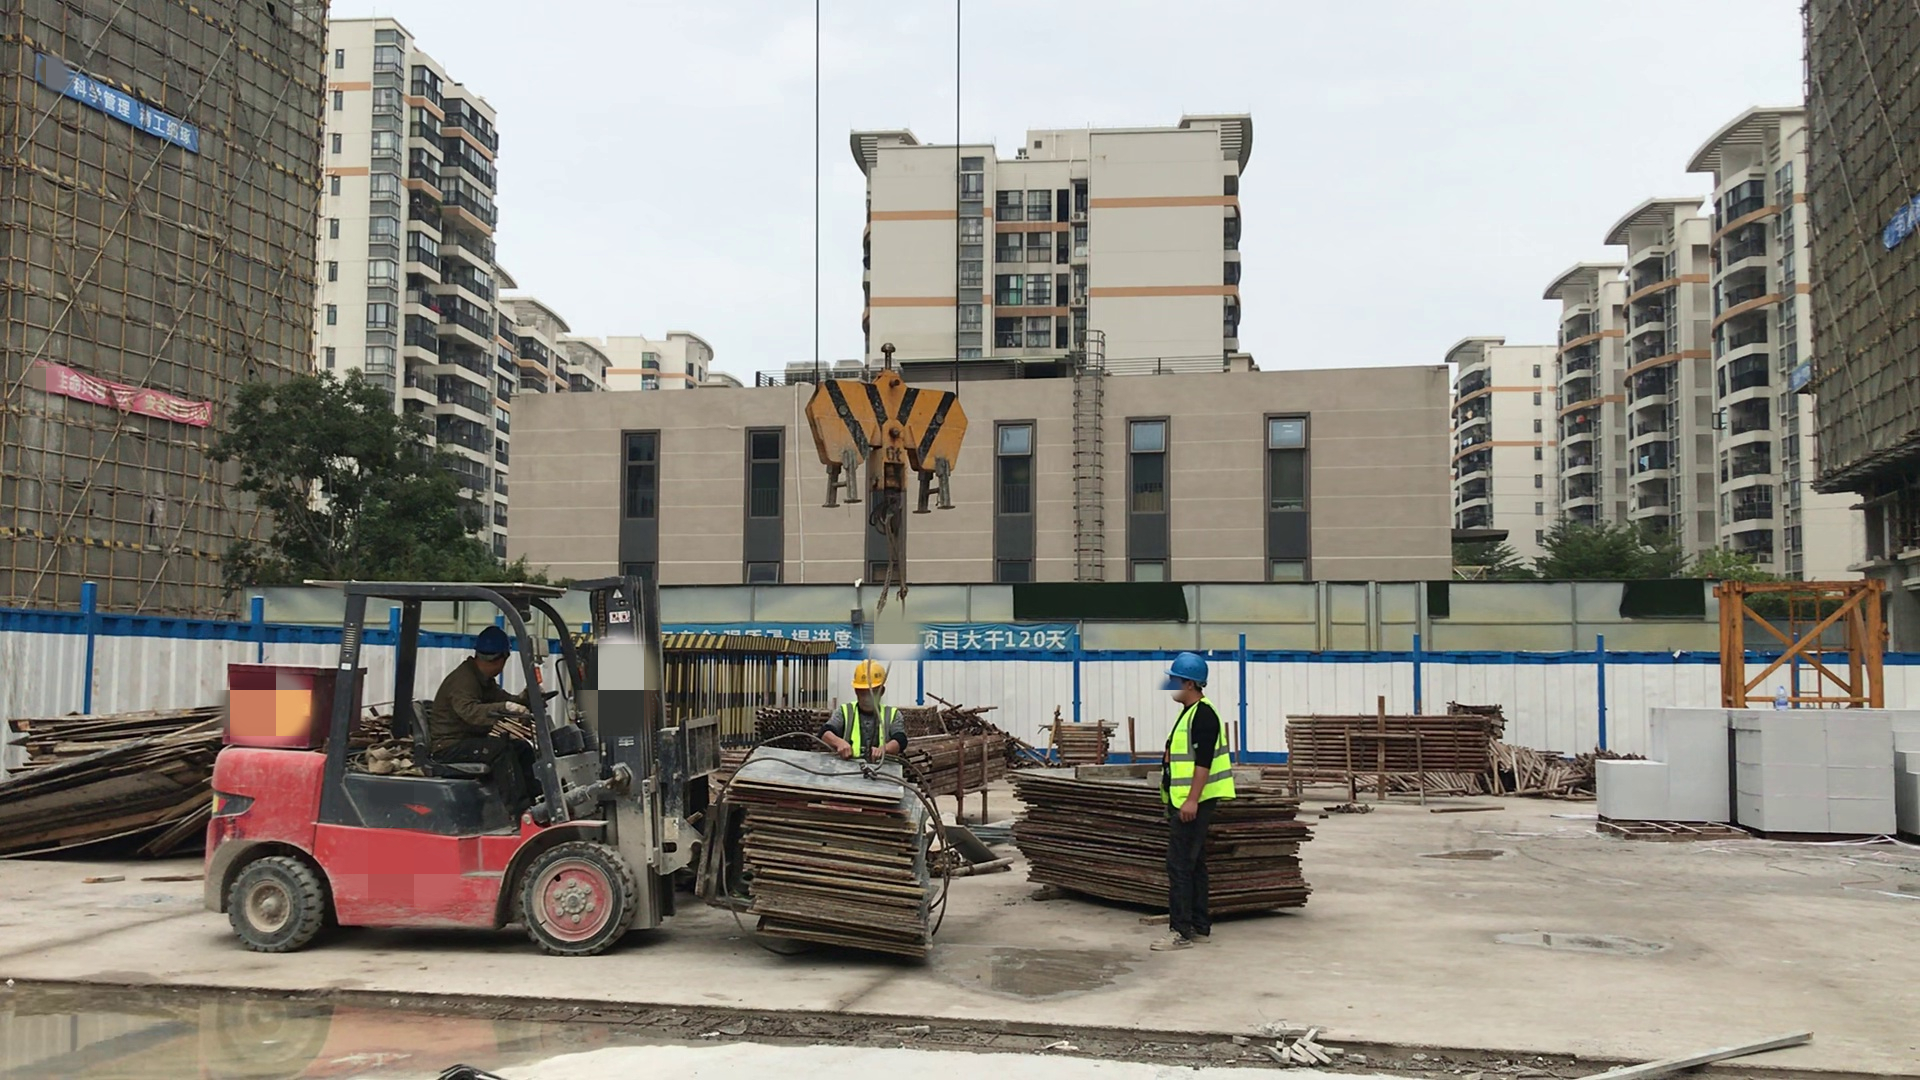board: (729, 747, 932, 957), (1015, 768, 1312, 910)
brick: (1738, 708, 1886, 833), (1597, 708, 1733, 831)
helmet: (1166, 654, 1207, 682), (851, 659, 883, 692), (475, 628, 510, 654)
hook: (805, 343, 966, 533)
person: (428, 628, 558, 830), (1153, 651, 1237, 949), (821, 658, 906, 763)
slogan: (46, 64, 196, 149), (763, 626, 1069, 657), (51, 366, 205, 427)
vest: (1164, 698, 1234, 811)
